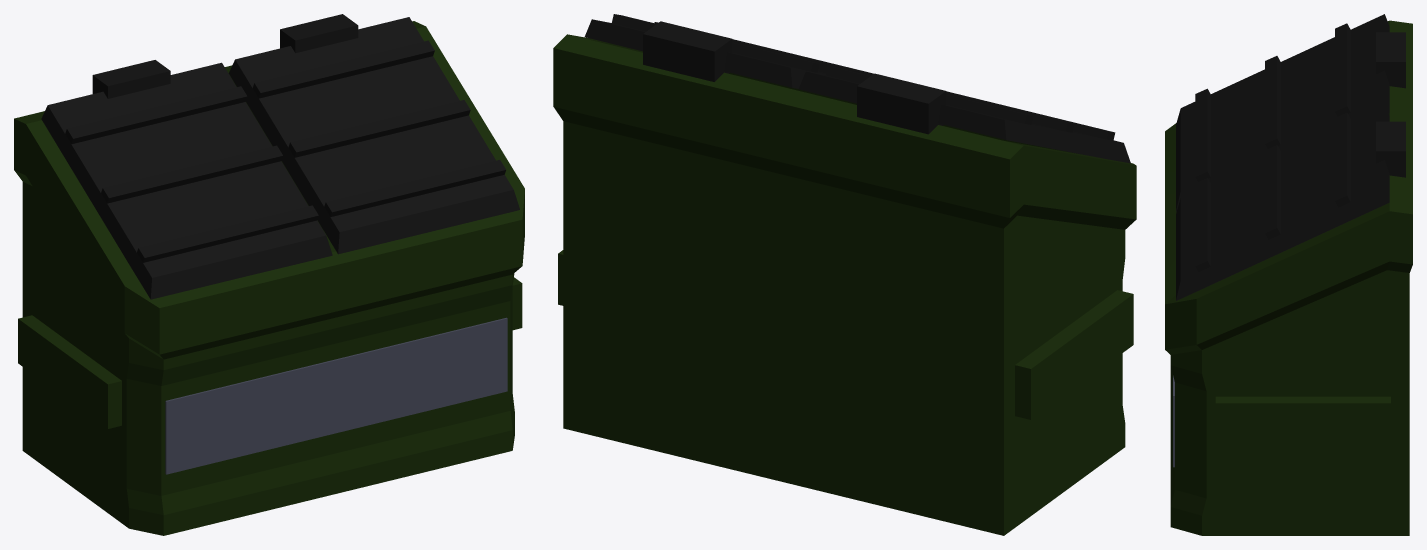
3 views of the same model, side by side, from view 1: azimuth 30°, elevation 25°; view 2: azimuth 150°, elevation 25°; view 3: azimuth 270°, elevation 25° (orthographic). The views are drawn at different scales.
Parts seen in each view (by area): view 1: TrashContainer.007_Cube.125; view 2: TrashContainer.007_Cube.125; view 3: TrashContainer.007_Cube.125.
Boxes of the visible parts, x1,y1,x2,y2 form: TrashContainer.007_Cube.125: [14, 14, 524, 535]; TrashContainer.007_Cube.125: [553, 14, 1136, 535]; TrashContainer.007_Cube.125: [1165, 14, 1412, 535].
Size of the model in its own units: 200 by 166 by 106.
